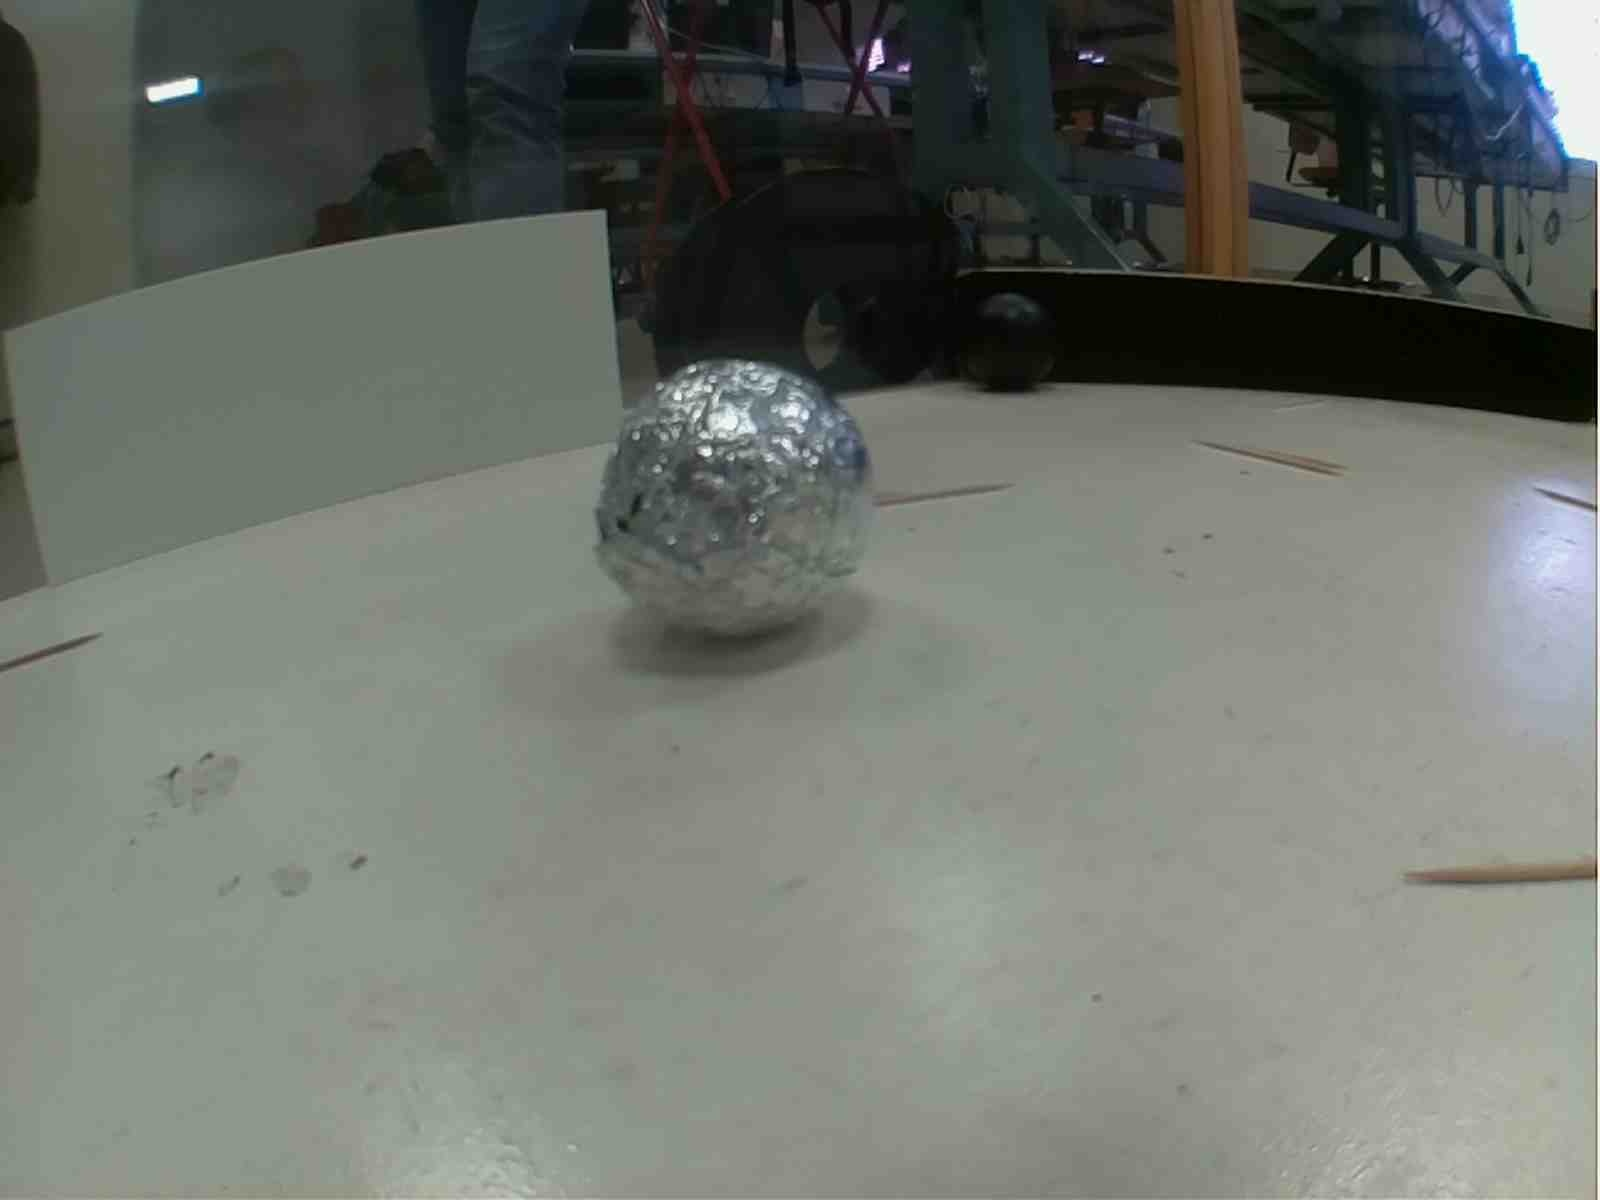bianca: (593, 366, 871, 639)
nera: (960, 285, 1057, 397)
